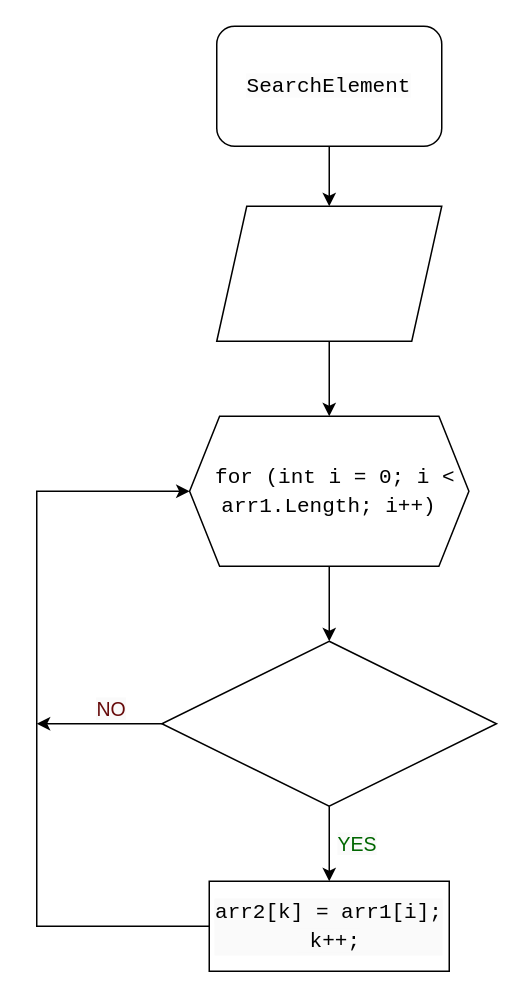
The diagram is 524 pixels wide and 998 high, and some of its shapes have lost their labels. Here are the shapes that lost their labels. From the top down, the box of each, then its label:
(215, 205, 442, 341): string[] arr1, string[] arr2, int k = 0
(160, 640, 496, 806): if(arr1[i].Length <= 3)
